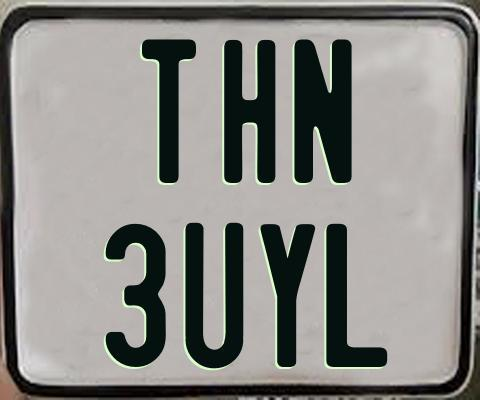3: (105, 224, 171, 368)
H: (222, 40, 274, 187)
L: (325, 222, 390, 368)
N: (293, 39, 355, 186)
T: (140, 39, 200, 188)
U: (184, 221, 247, 371)
Y: (260, 224, 317, 371)
